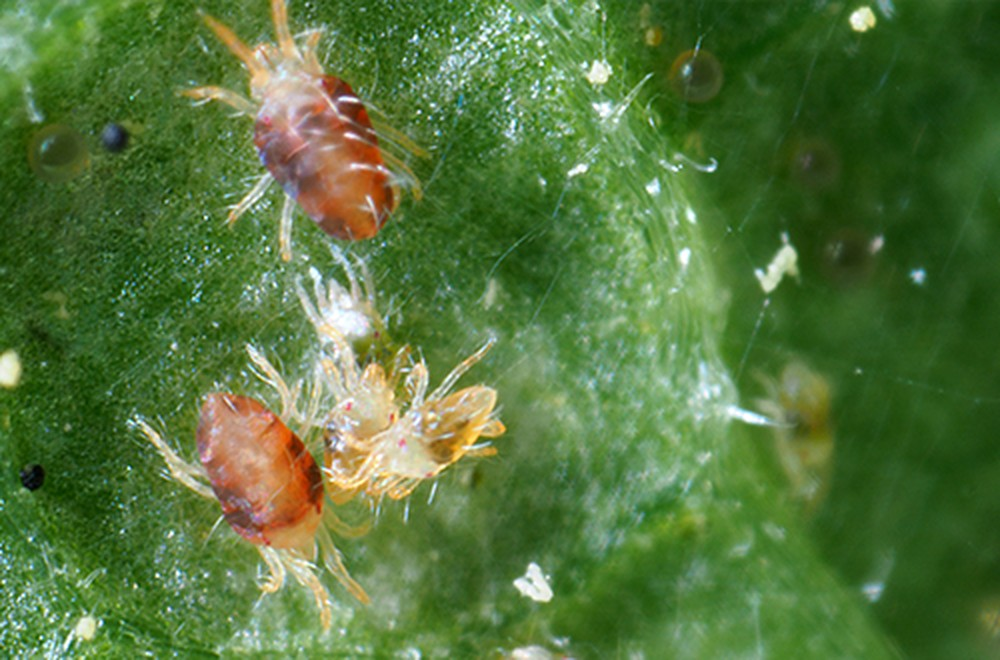Aracnido Rojo: (120, 354, 383, 634), (185, 7, 461, 268), (369, 374, 519, 504), (294, 271, 432, 395), (307, 357, 400, 492)
